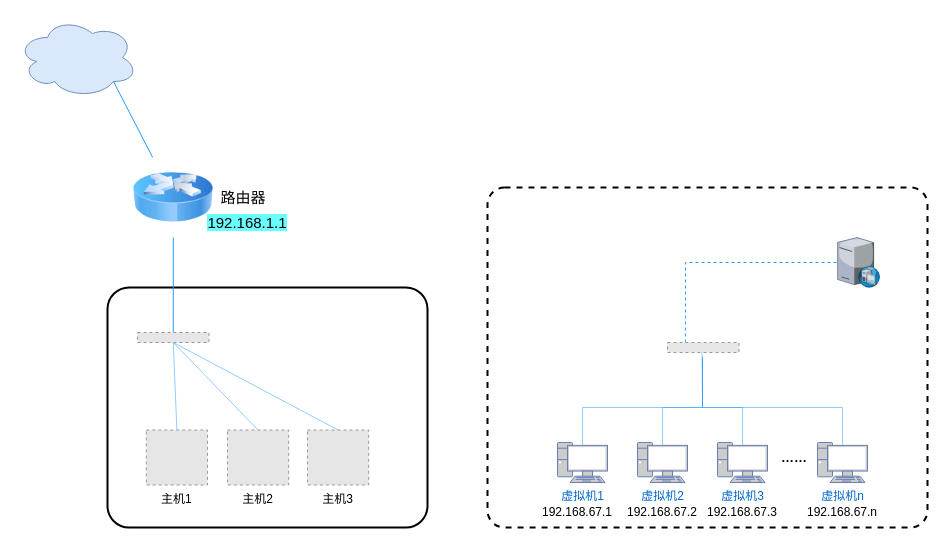
Image size: 946x546. Some labels were removed from this diagram. Grey dashed boxes stand in for pictures. The centre of each missing label's shape, as x and y in pixels:
Internet: point 77,57
虚拟DHCP服务器: point 858,262
